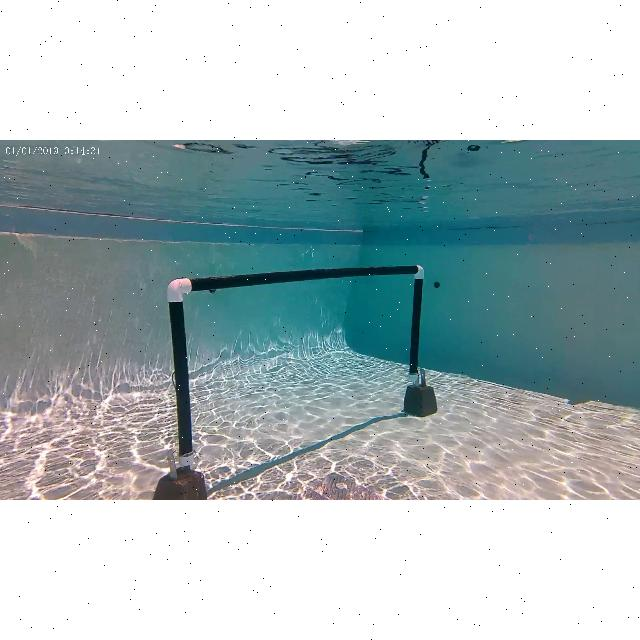prequal gate: (168, 264, 424, 466)
prequal gate leg l: (162, 279, 206, 489)
prequal gate leg r: (406, 266, 424, 376)
